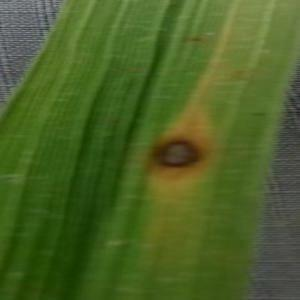0 BrownSpot: (132, 118, 223, 187), (178, 28, 206, 50), (246, 105, 271, 124), (228, 61, 251, 80)
